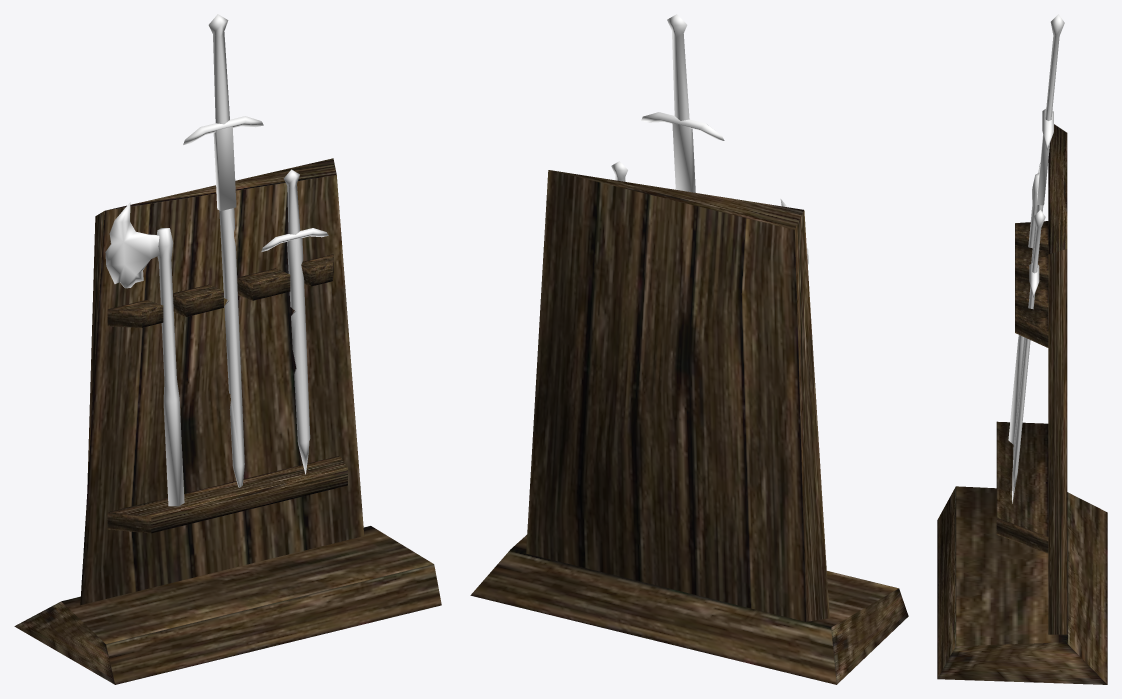
Rendered from OC_WEAPON_SHELF_OLD_V2.glb.
3 renders of one model, left to right at view 1: azimuth 30°, elevation 25°; view 2: azimuth 150°, elevation 25°; view 3: azimuth 270°, elevation 25°, orthographic. The views are drawn at different scales.
Parts seen in each view (by area): view 1: Mesh; view 2: Mesh; view 3: Mesh.
Part boxes in pixels (left/top/right/bottom): Mesh: left=14, top=14, right=441, bottom=684; Mesh: left=470, top=14, right=908, bottom=684; Mesh: left=937, top=14, right=1107, bottom=684.
Size of the model in its own units: 1.09 by 1.72 by 0.4541.
2 materials, 1 textured.
